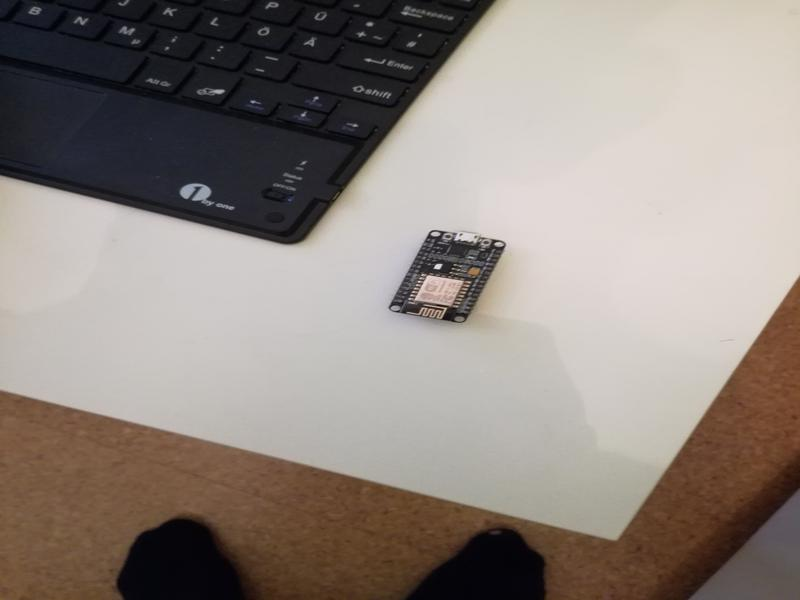ESP8266: (383, 226, 511, 330)
